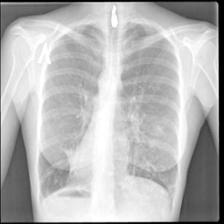tuberculosis: (33, 12, 184, 221)
